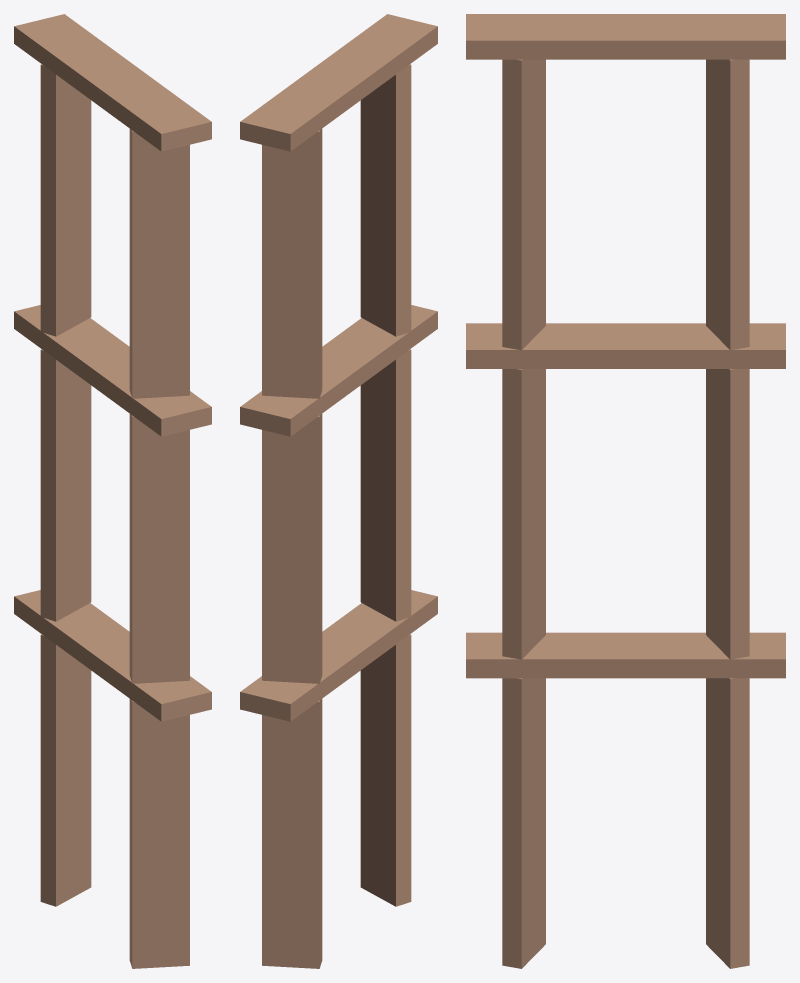
File: keva_tilted_pillar_triple_pi_structure.dae
3 views of the same model, side by side, from view 1: azimuth 30°, elevation 25°; view 2: azimuth 150°, elevation 25°; view 3: azimuth 270°, elevation 25° (orthographic). The views are drawn at different scales.
Parts seen in each view (by area): view 1: base (×9); view 2: base (×9); view 3: base (×9).
Boxes of the visible parts, bbox=[...] form: base (×9): bbox=[14, 14, 211, 968]; base (×9): bbox=[240, 14, 437, 968]; base (×9): bbox=[466, 14, 785, 968].
Size of the model in its own units: 0.0244 by 0.1177 by 0.3768.
